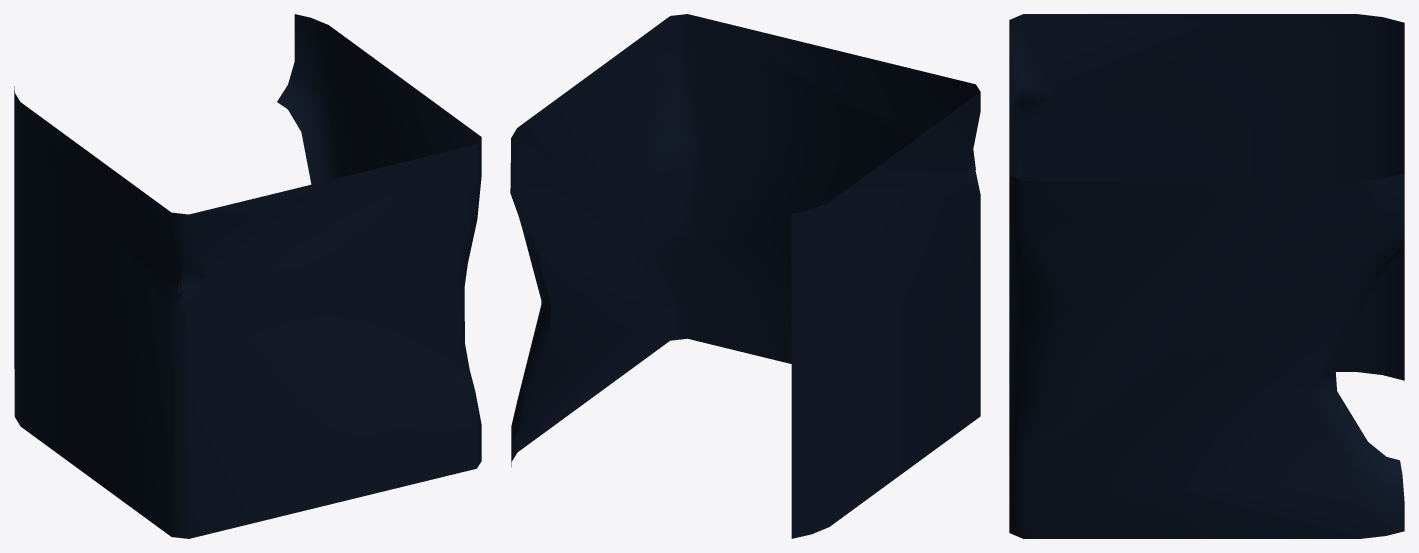
The model's file is tower_part_empty.fbx.
The picture shows the model from 3 angles, left to right: view 1: azimuth 30°, elevation 25°; view 2: azimuth 150°, elevation 25°; view 3: azimuth 270°, elevation 25°; orthographic projection. The views are drawn at different scales.
Visible parts, largest first — view 1: tower_wall_dimmed.001; view 2: tower_wall_dimmed.001; view 3: tower_wall_dimmed.001.
Boxes of the visible parts, bbox=[...] form: tower_wall_dimmed.001: bbox=[14, 14, 481, 538]; tower_wall_dimmed.001: bbox=[510, 14, 980, 538]; tower_wall_dimmed.001: bbox=[1009, 14, 1404, 538].
Bounding box in the file's own units: 200 × 200 × 200.
